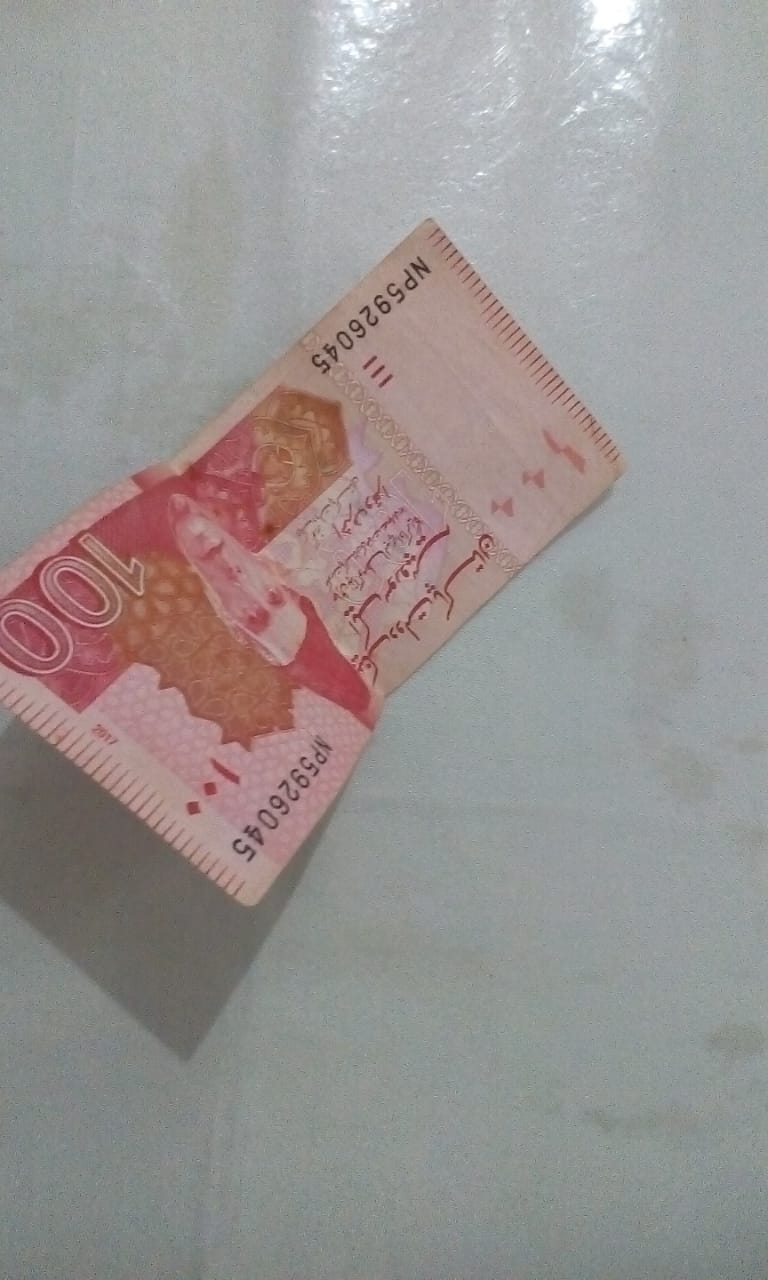100 rupee: (16, 218, 711, 1005)
